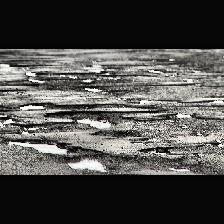pothole: (6, 138, 86, 154), (62, 156, 108, 174), (77, 118, 113, 128), (18, 102, 55, 110), (136, 146, 172, 154), (45, 112, 76, 120), (56, 103, 96, 109)
